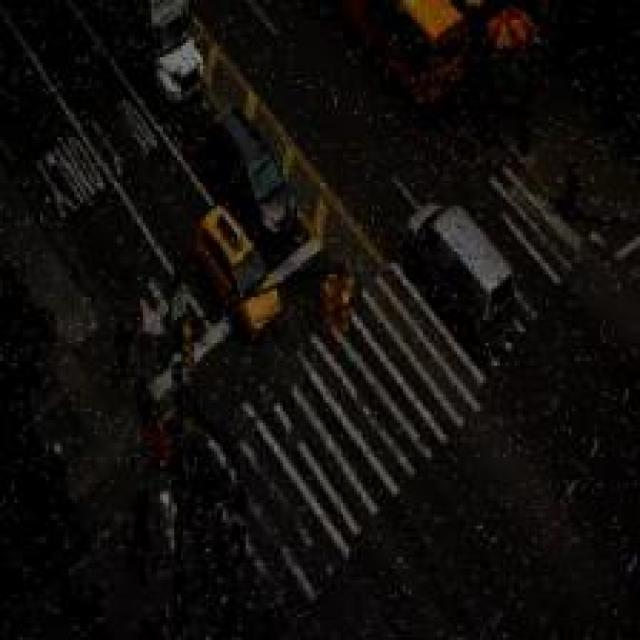crosswalk: (210, 139, 600, 617)
